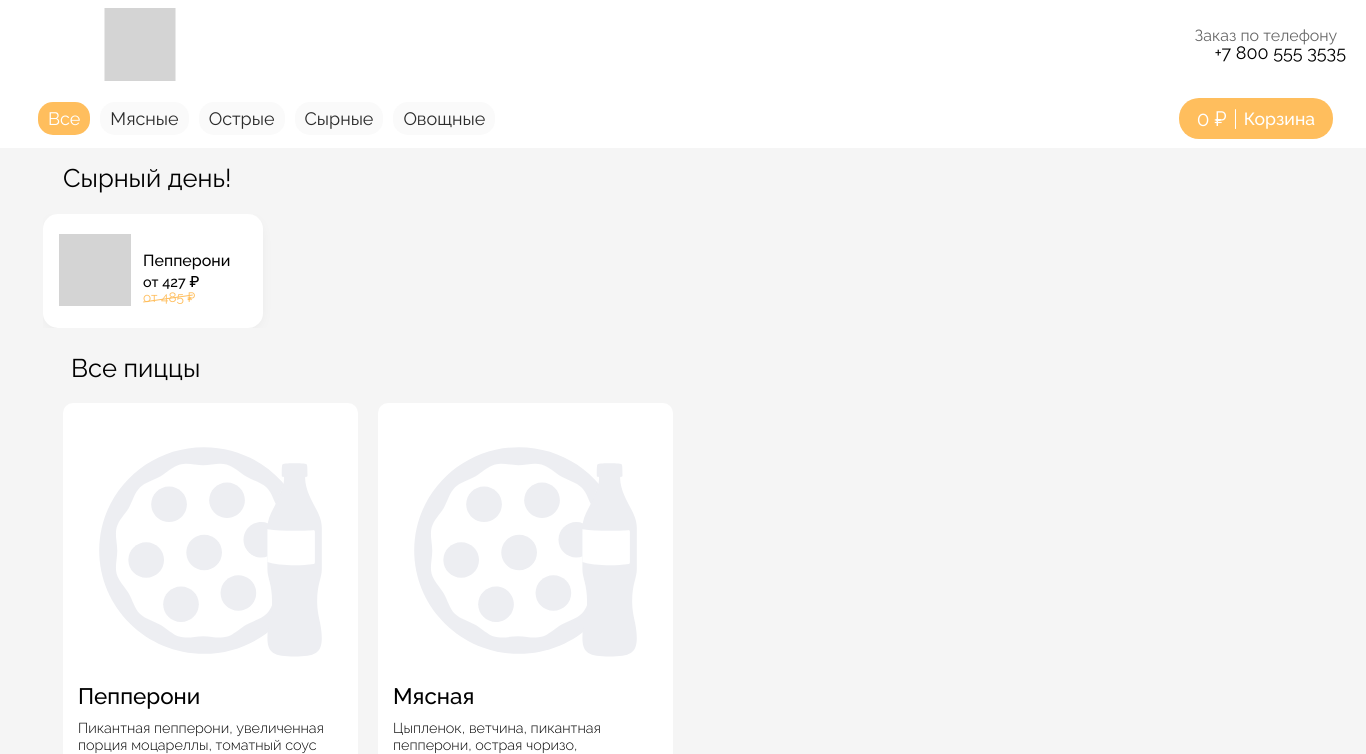
Test: NavBar component › filter switching works
Expected: the heading "Пепперони" next to "Мясная" is shown, [78,683,200,709]
Expected: the heading "Мясная" is shown, [393,683,474,709]
Click the link "Мясные".
click(145, 118)  # box [100,102,189,135]
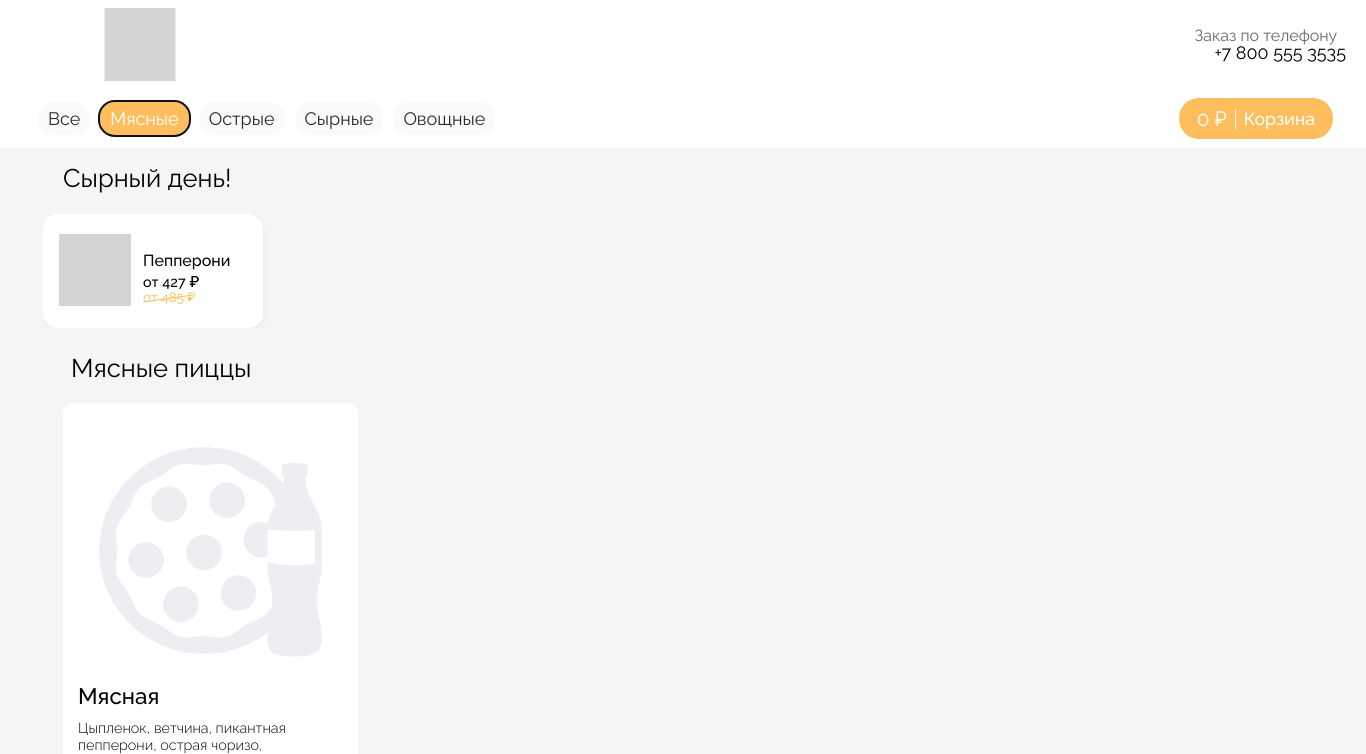
Expected: the heading "Мясная" is shown, [78,683,159,709]
Click the link "Сырные".
click(339, 118)  # box [294,102,383,135]
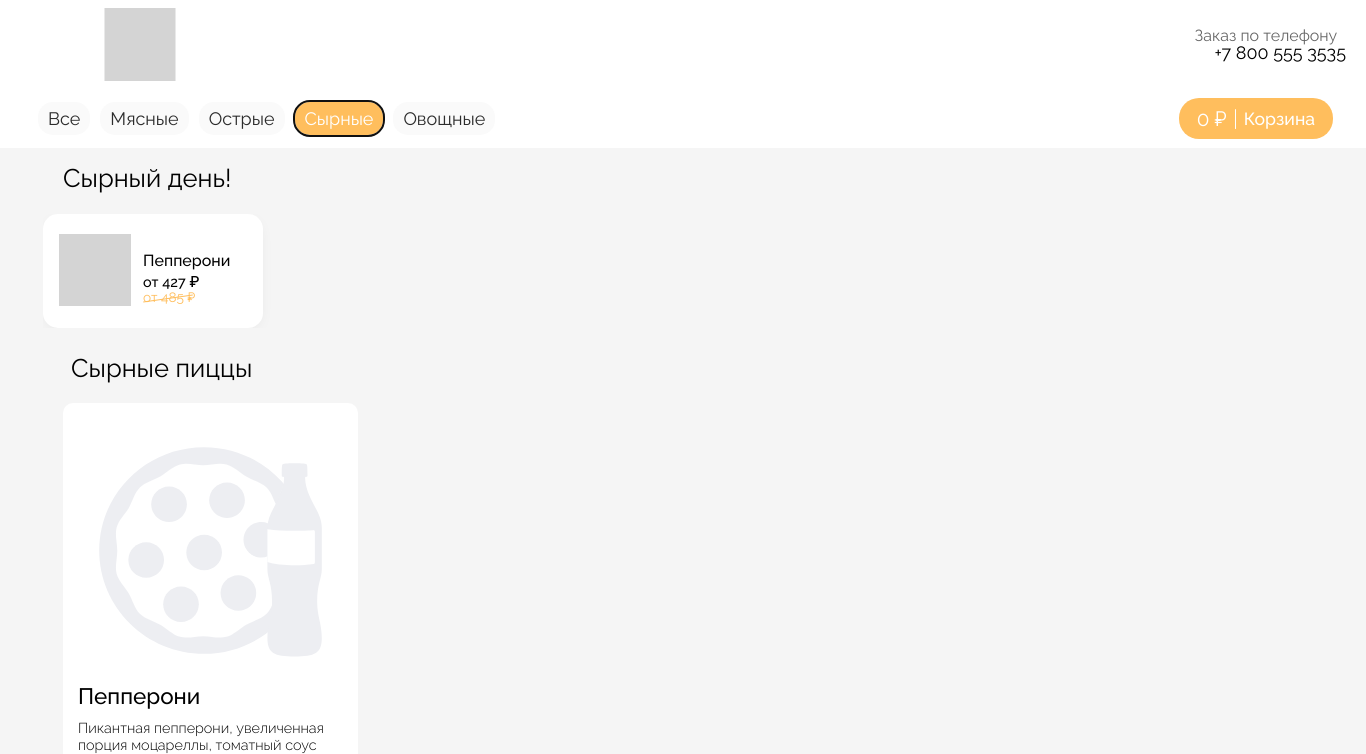
Expected: the heading "Пепперони" below "пиццы" is shown, [78,683,200,709]
Expected: the heading "Мясная" is gone
